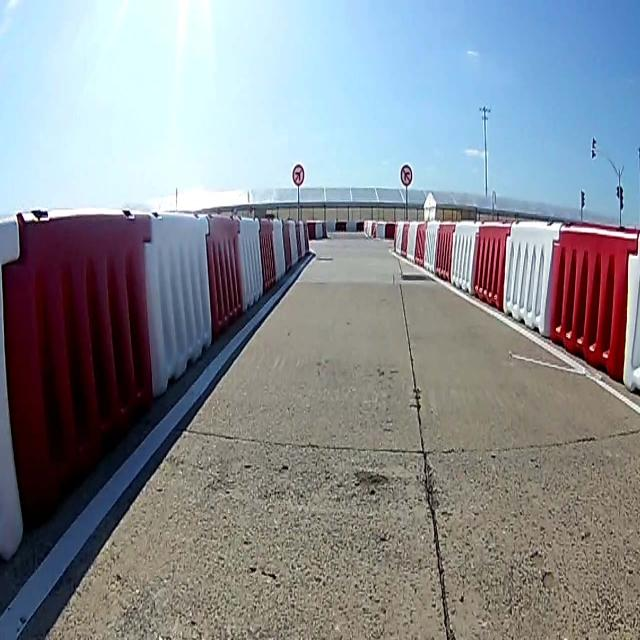sagadonulmez: (401, 165, 412, 187)
soladonulmez: (292, 162, 303, 186)
